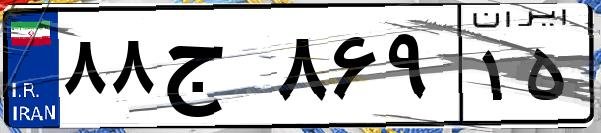1: (475, 38, 525, 113)
5: (525, 38, 570, 115)
6: (330, 28, 385, 110)
8: (270, 28, 330, 110), (57, 26, 110, 100), (110, 28, 158, 98)
9: (385, 28, 445, 110)
ج: (158, 20, 270, 120)
